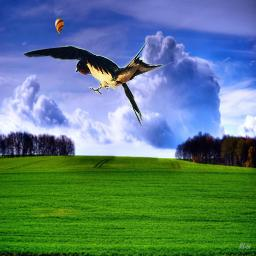Swallow: (20, 38, 188, 126)
